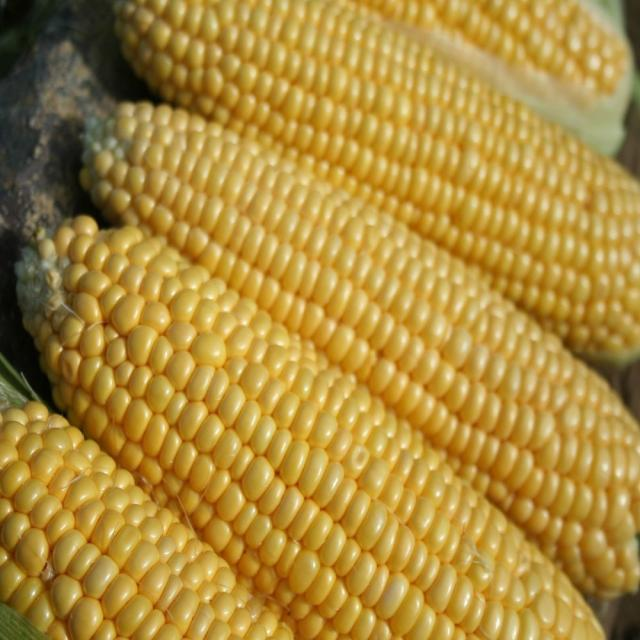corn: (82, 80, 640, 605), (13, 203, 614, 640), (106, 0, 640, 376)
